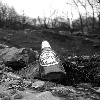beer: (35, 35, 68, 80)
